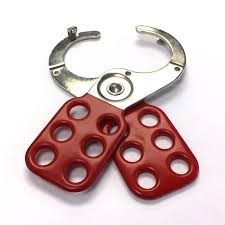hasp: (24, 25, 199, 202)
